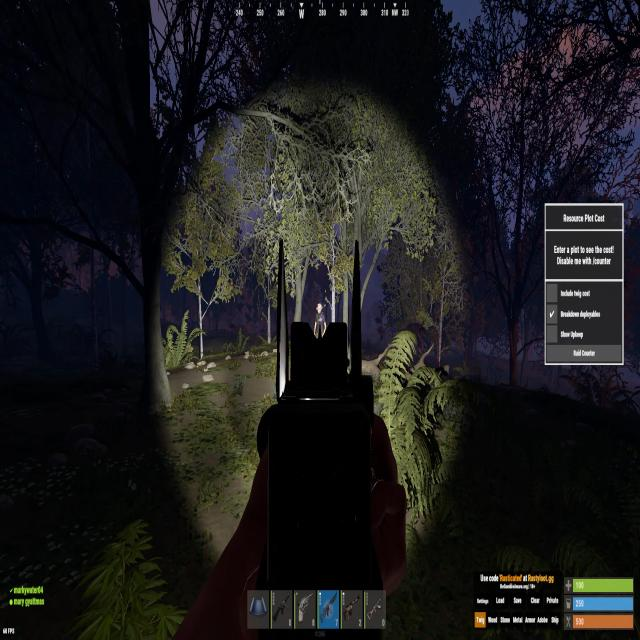Player: (314, 304, 327, 338)
